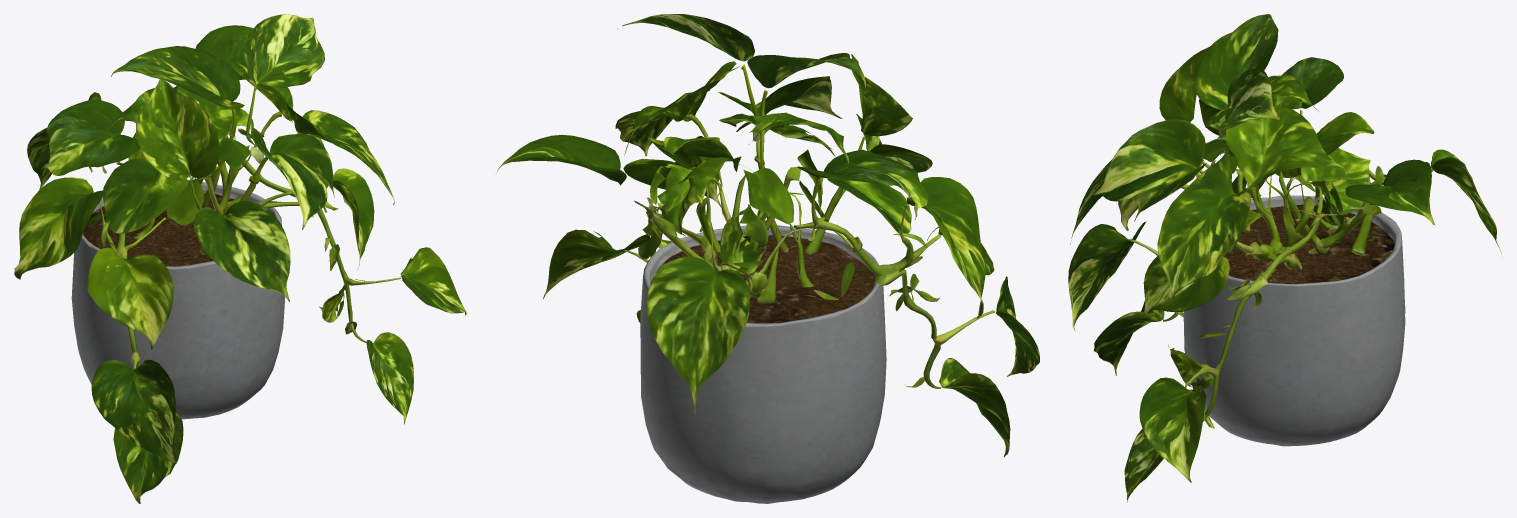
File: desktop.glb
3 renders of one model, left to right at view 1: azimuth 30°, elevation 25°; view 2: azimuth 150°, elevation 25°; view 3: azimuth 270°, elevation 25°, orthographic. The views are drawn at different scales.
Visible parts, largest first — view 1: smallplant; view 2: smallplant; view 3: smallplant.
Part boxes in pixels (<box>): smallplant: <box>14,14,466,503</box>; smallplant: <box>496,14,1039,503</box>; smallplant: <box>1068,14,1501,502</box>.
Bounding box in the file's own units: 0.3388 × 0.3 × 0.2927.
1 material, 1 textured.
